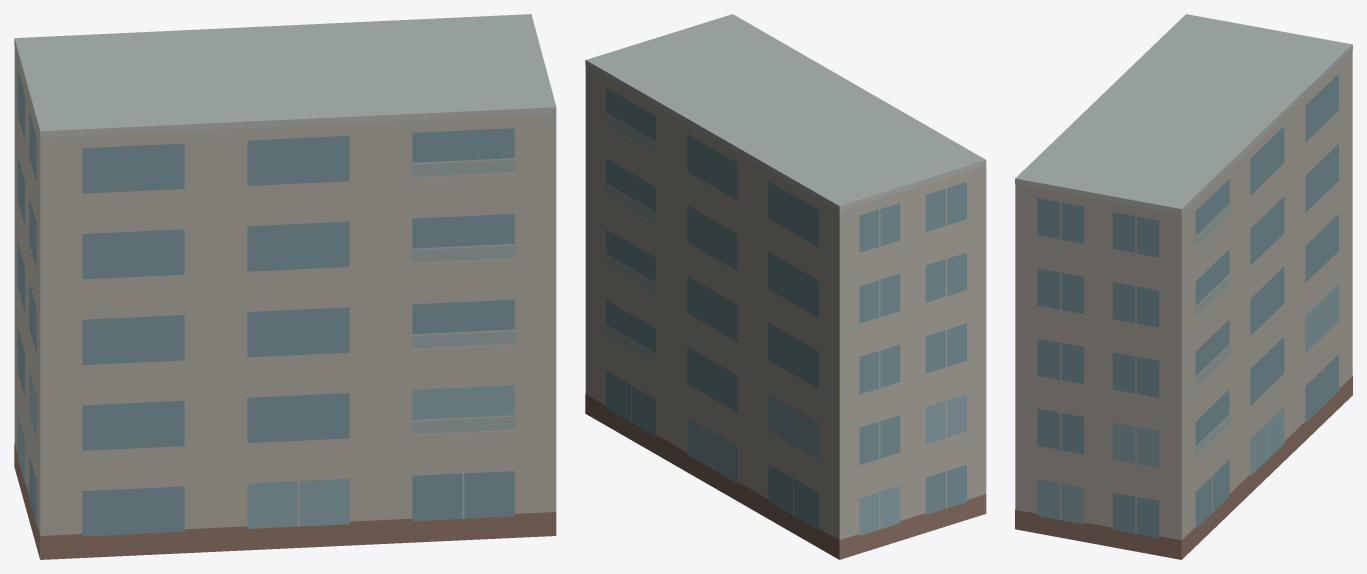
Rendered from survey-upis-32725861.glb.
3 views of the same model, side by side, from view 1: azimuth 30°, elevation 25°; view 2: azimuth 150°, elevation 25°; view 3: azimuth 270°, elevation 25° (orthographic). The views are drawn at different scales.
Parts seen in each view (by area): view 1: survey-upis-32725861.tmp; view 2: survey-upis-32725861.tmp; view 3: survey-upis-32725861.tmp.
Part boxes in pixels (bbox=[...]): survey-upis-32725861.tmp: bbox=[14, 14, 556, 559]; survey-upis-32725861.tmp: bbox=[585, 14, 986, 559]; survey-upis-32725861.tmp: bbox=[1015, 14, 1352, 559].
Bounding box in the file's own units: 18.73 × 15.7 × 13.71.
